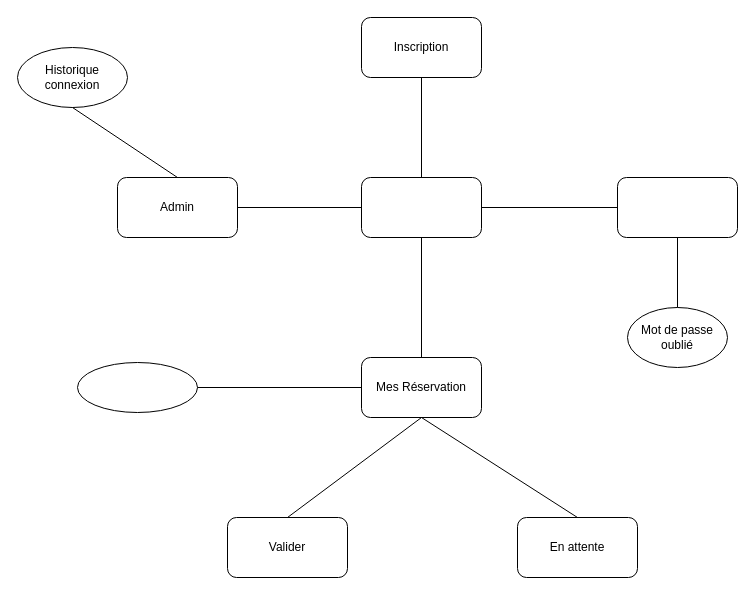
This 755x595 diagram has some shape labels left out. The box of each missing label's shape, as (x1, y1, x2, y2) in pixels:
Accueil: (360, 176, 482, 238)
Connexion: (616, 176, 738, 238)
Historique Réservation: (76, 362, 198, 412)
